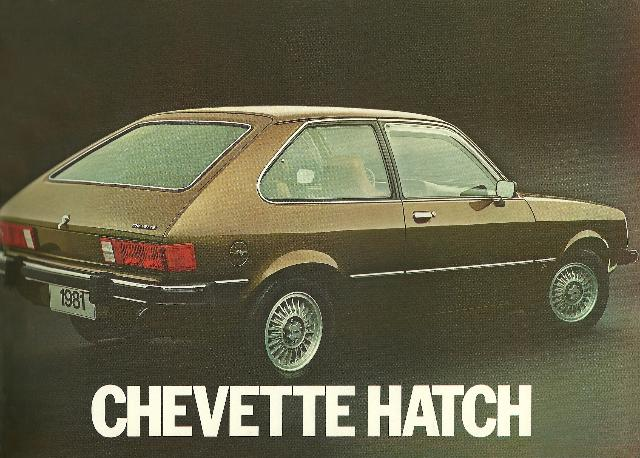chevette-1983: (0, 106, 638, 385), (96, 387, 264, 436), (370, 386, 530, 436)
